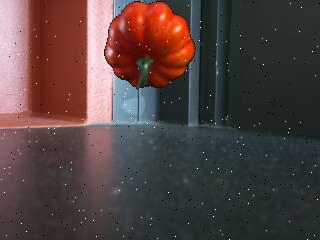Pumpkin: (103, 2, 195, 91)
